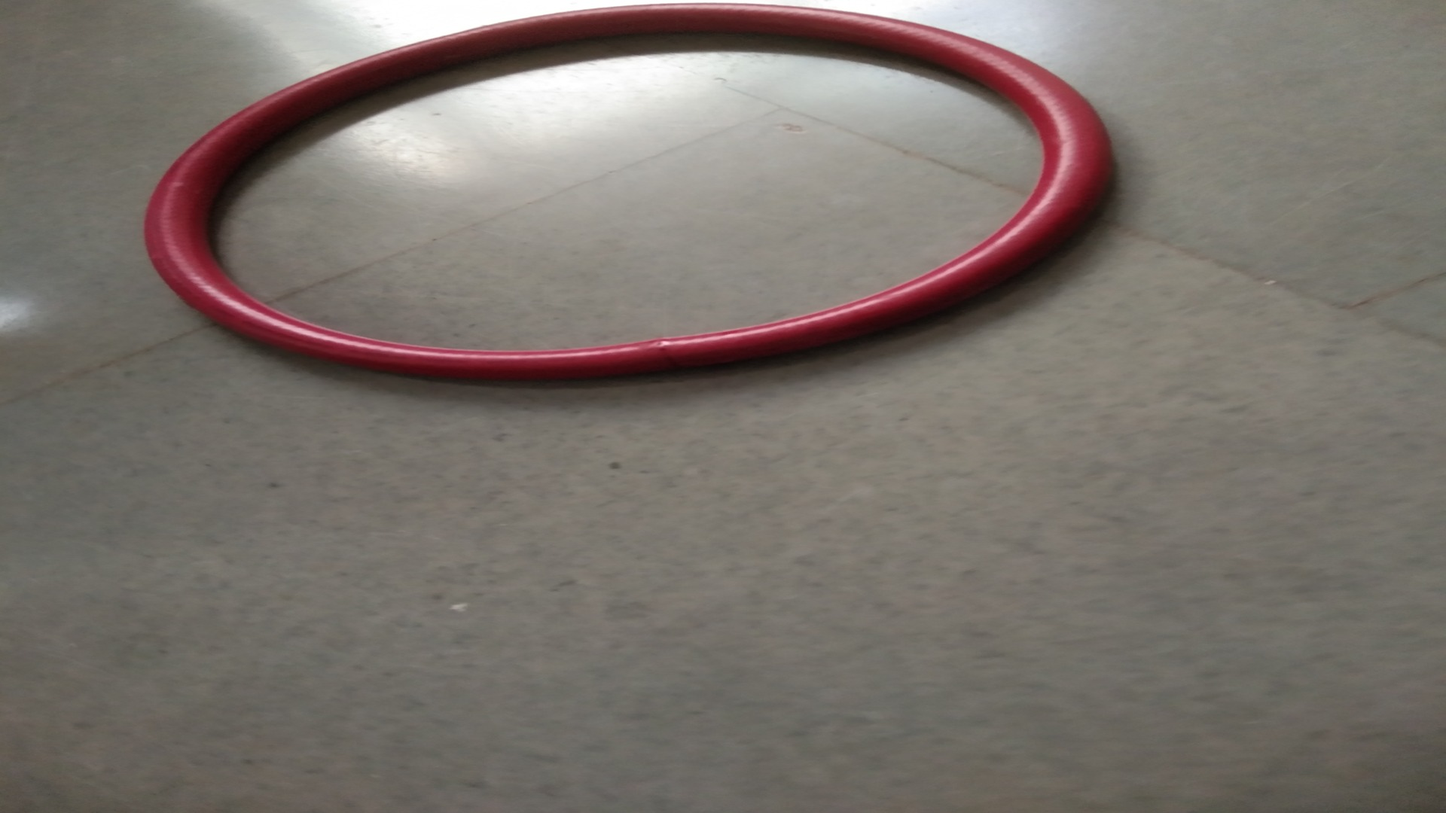Red ring: (142, 5, 1110, 374)
